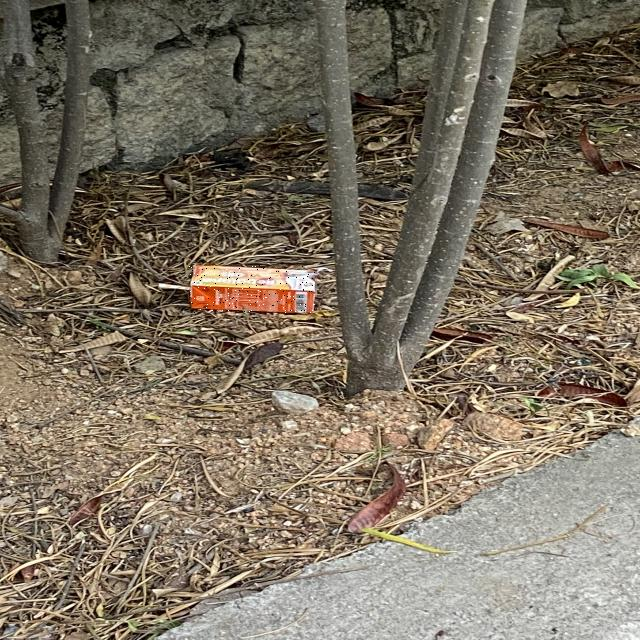paper: (190, 265, 316, 313)
